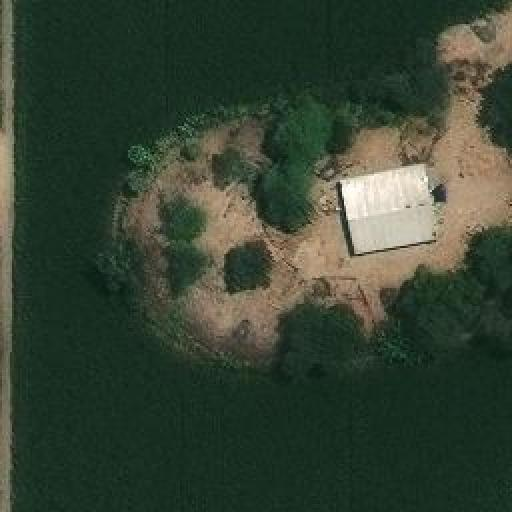manzanas: (337, 163, 448, 256)
